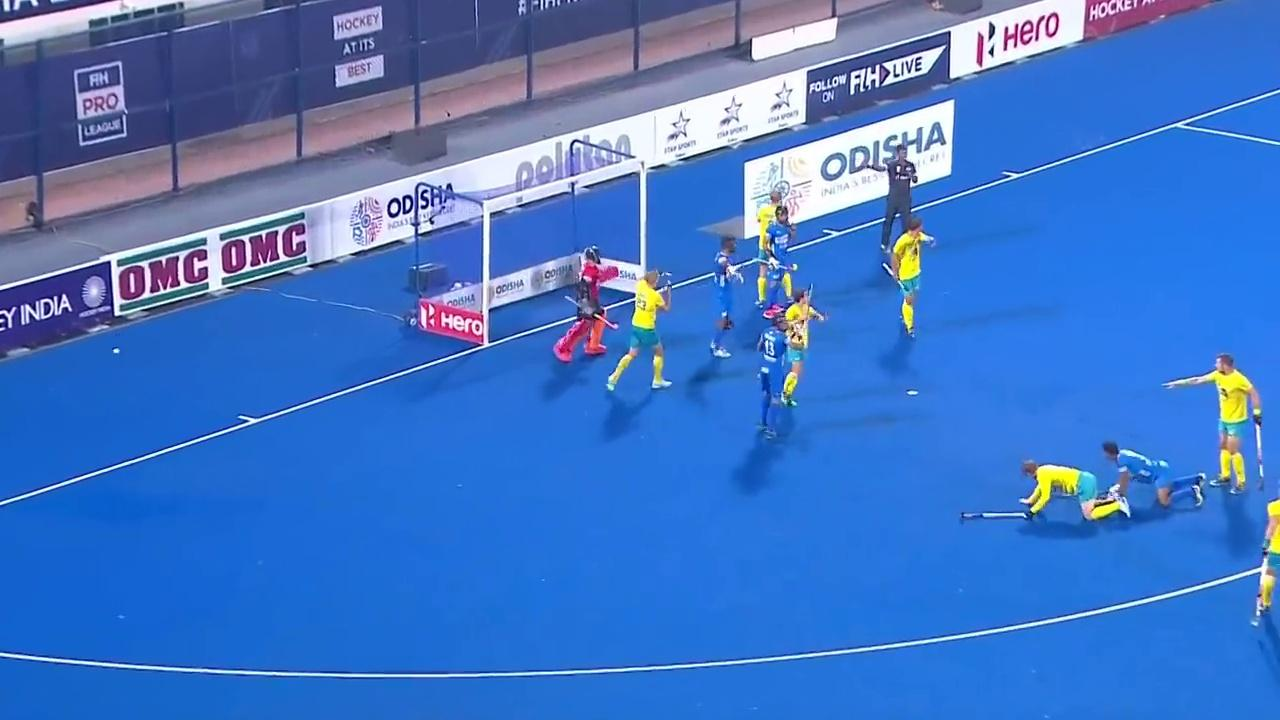ball: (108, 344, 123, 358)
